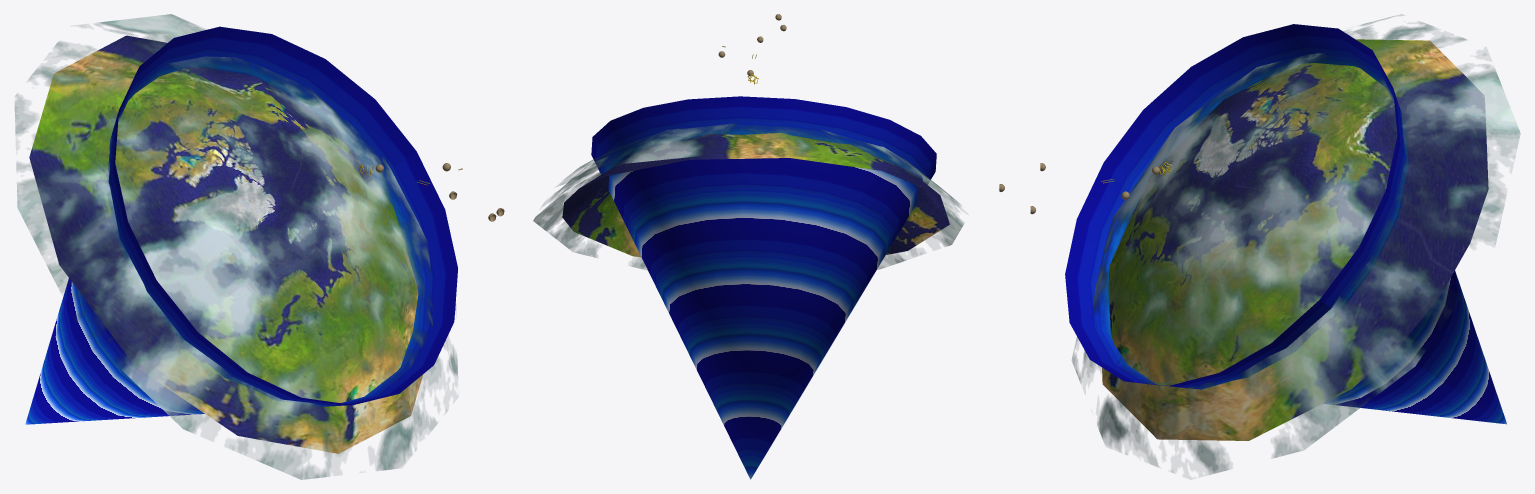
The model's file is rainbow_road_dxDECO.glb.
3 renders of one model, left to right at view 1: azimuth 30°, elevation 25°; view 2: azimuth 150°, elevation 25°; view 3: azimuth 270°, elevation 25°, orthographic. The views are drawn at different scales.
Visible parts, largest first — view 1: mesh_course1_mat15, mesh_course_mat15, mesh_course_mat16; view 2: mesh_course_mat16, mesh_course1_mat15, mesh_course_mat15; view 3: mesh_course1_mat15, mesh_course_mat15, mesh_course_mat16.
Part boxes in pixels (x1,y1,x2,y2): mesh_course1_mat15: (29, 35, 422, 453); mesh_course_mat15: (15, 14, 457, 479); mesh_course_mat16: (25, 26, 457, 424); mesh_course_mat16: (591, 96, 936, 479); mesh_course1_mat15: (562, 133, 949, 257); mesh_course_mat15: (533, 123, 963, 269); mesh_course1_mat15: (1102, 39, 1488, 440); mesh_course_mat15: (1072, 14, 1520, 474); mesh_course_mat16: (1065, 24, 1506, 424).
Size of the model in its own units: 433 by 386 by 442.
9 materials, 9 textured.
